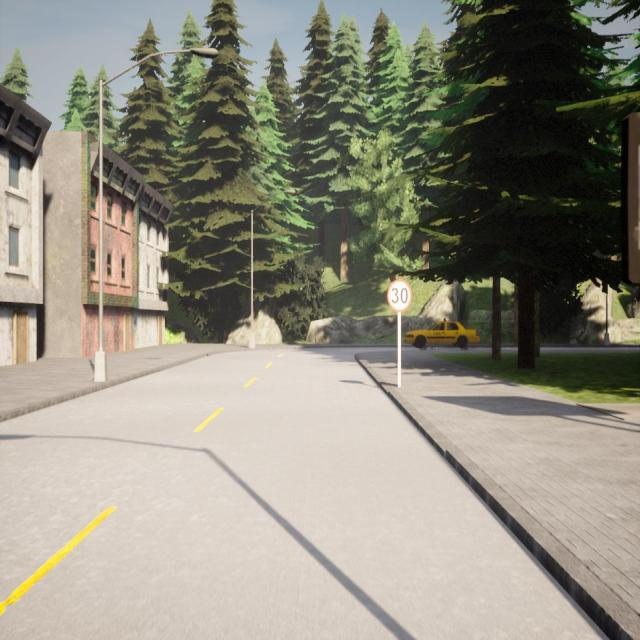Traffic_Signs: (386, 280, 412, 313)
Vehicle: (404, 320, 480, 347)
